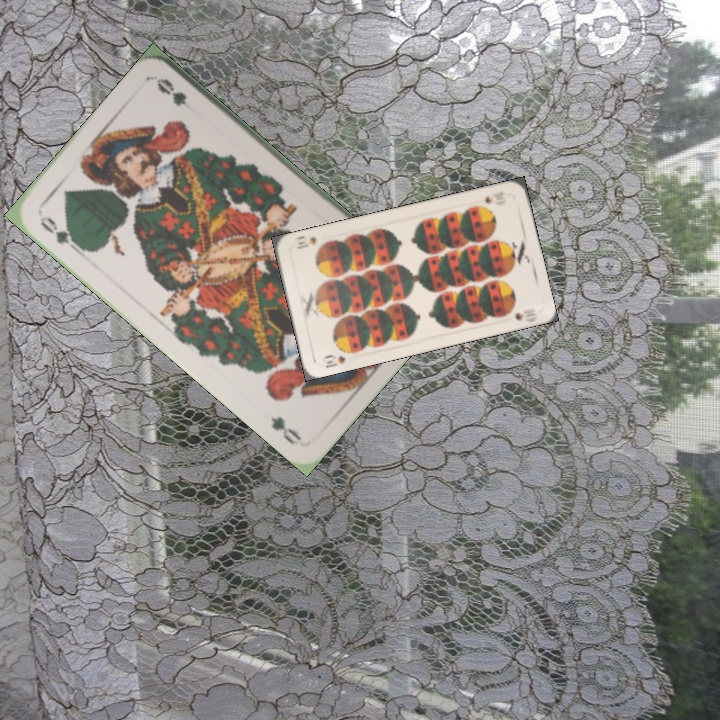GO: (35, 211, 85, 256)
S10: (318, 350, 348, 371), (480, 187, 507, 206)
